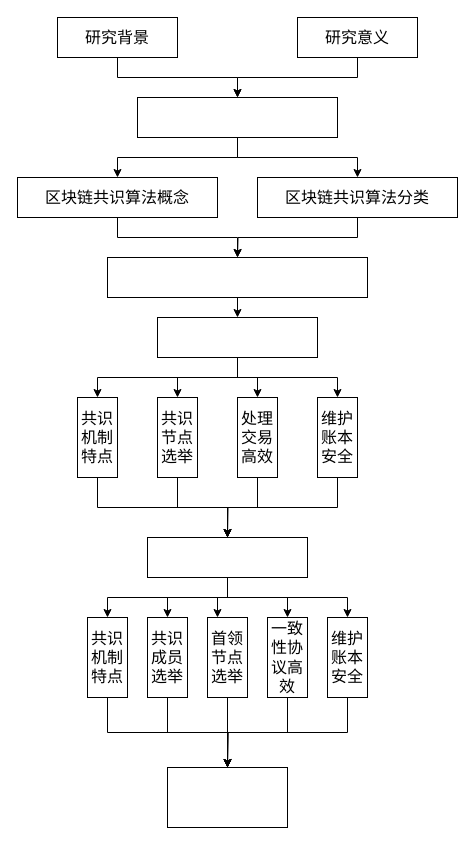
Some shapes in this 475 by 845 pixel diagram are drawn without their labels. Each missing label, with the box of its shape:
区块链共识算法研究: (136, 96, 338, 138)
单共识节点共识算法: (156, 316, 318, 358)
基于稳定度的区块链共识算法: (106, 256, 368, 298)
委员会共识算法: (146, 536, 308, 578)
结论和建议: (166, 766, 288, 828)
